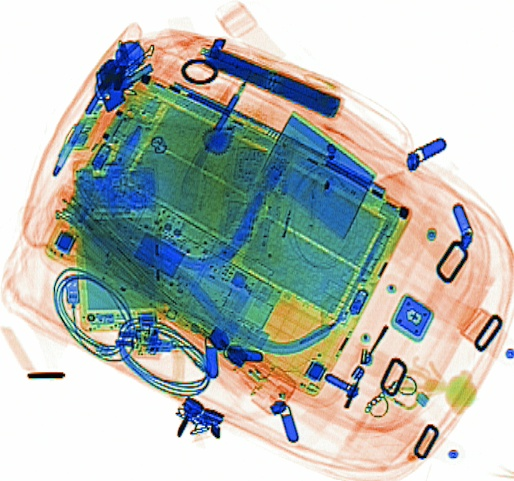powerbank: (191, 39, 345, 119)
